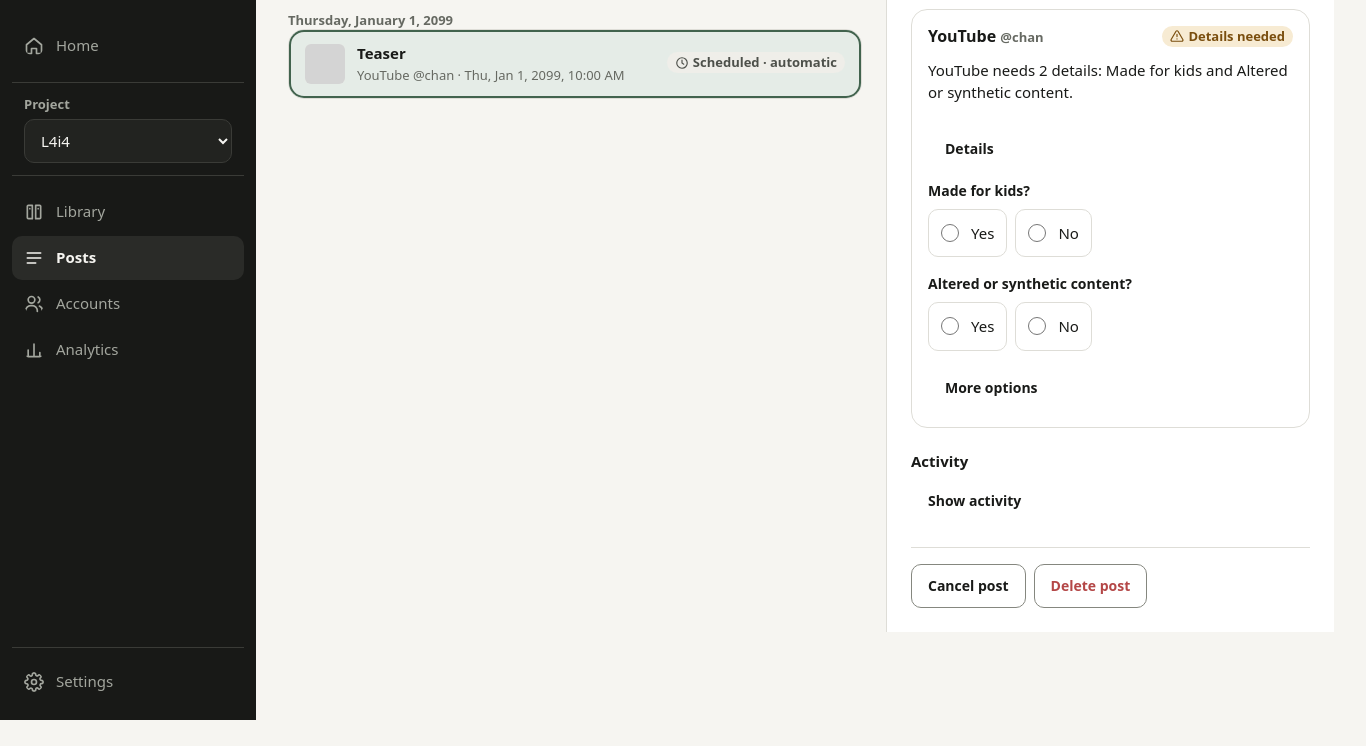
Delete post › a Scheduled Post shows the backend's summary and disappears after Delete
(page scrolled)
Click the button "Delete post" at (1090, 586), box [1034, 564, 1147, 608]
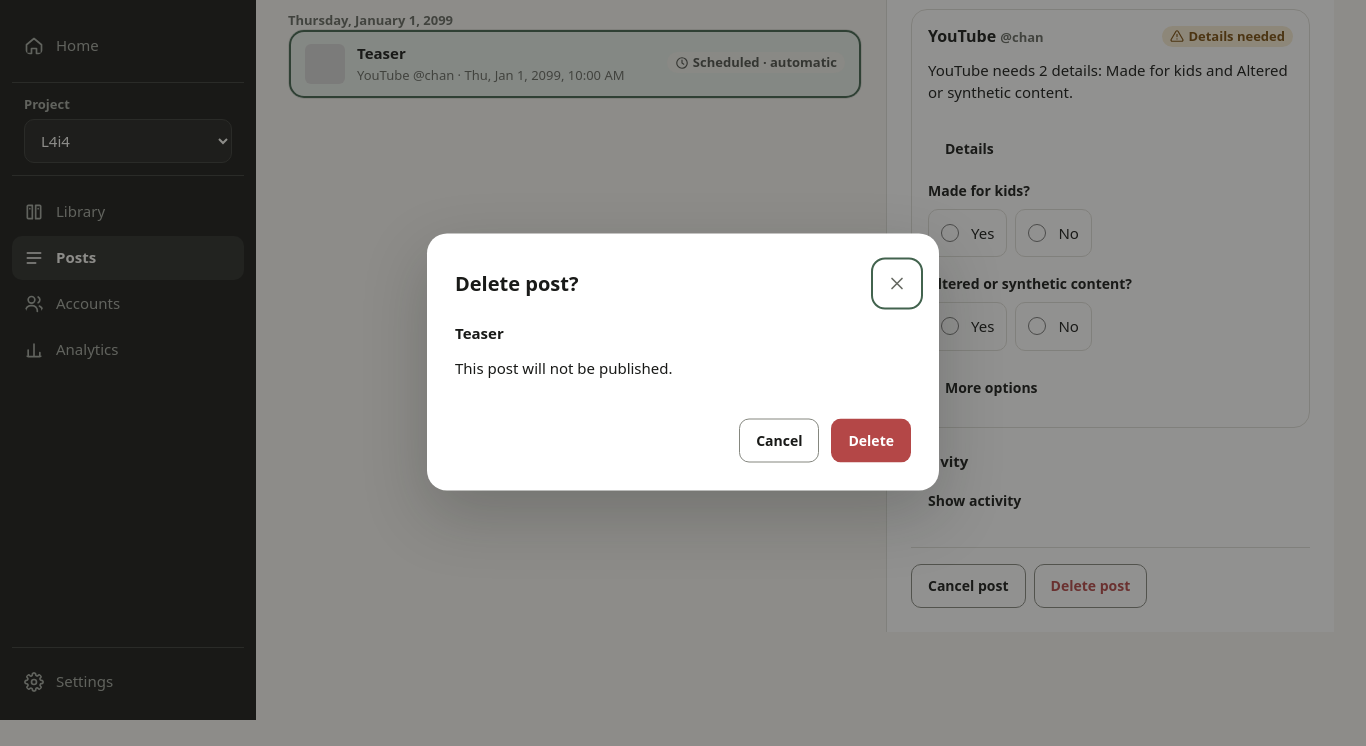
Expected: the dialog "Delete post?" shows "This post will not be published.", [455, 357, 672, 377]
Click the button "Delete" at (871, 440), box [832, 418, 911, 462]
(page scrolled)
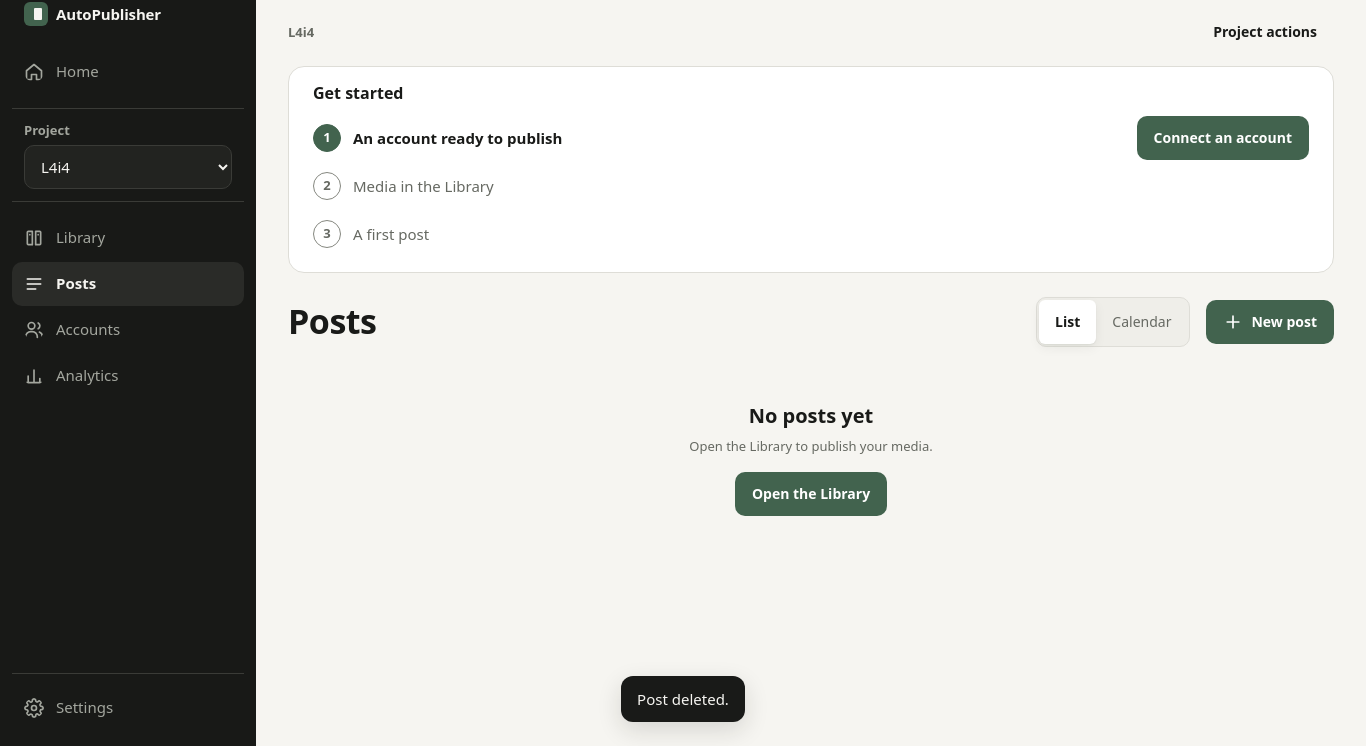
Expected: the text "Post deleted." is shown, [621, 676, 745, 722]
Expected: the heading "No posts yet" is shown, [749, 403, 873, 429]
